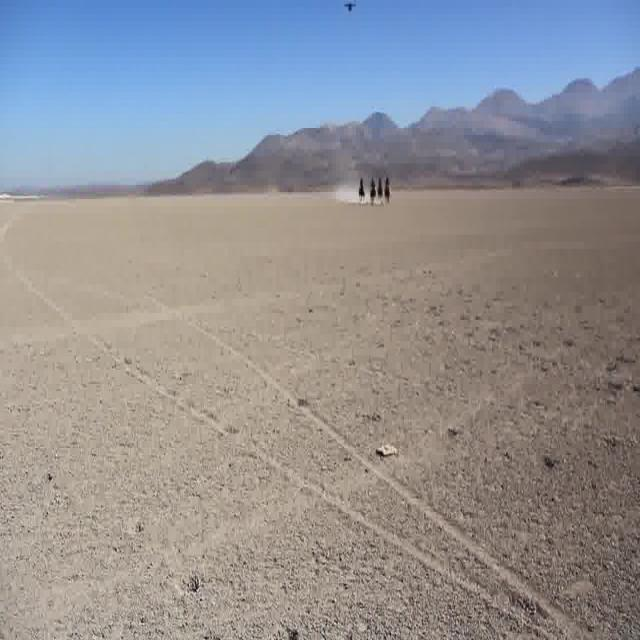drones: (336, 2, 363, 20)
